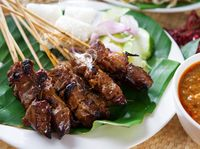sate: (4, 29, 153, 140)
